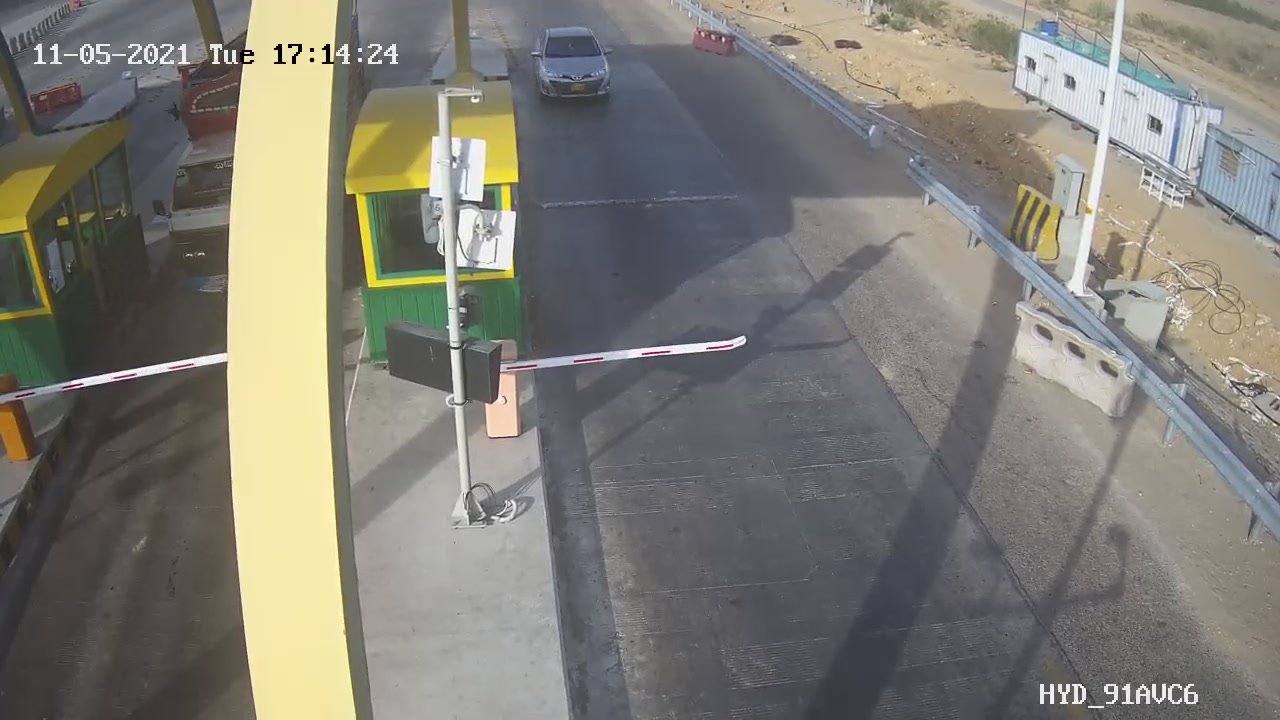F1: (518, 14, 625, 116)
